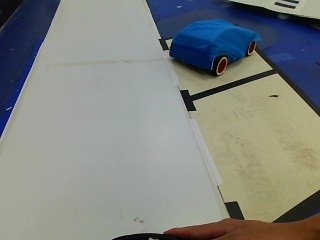car: (168, 20, 257, 78)
